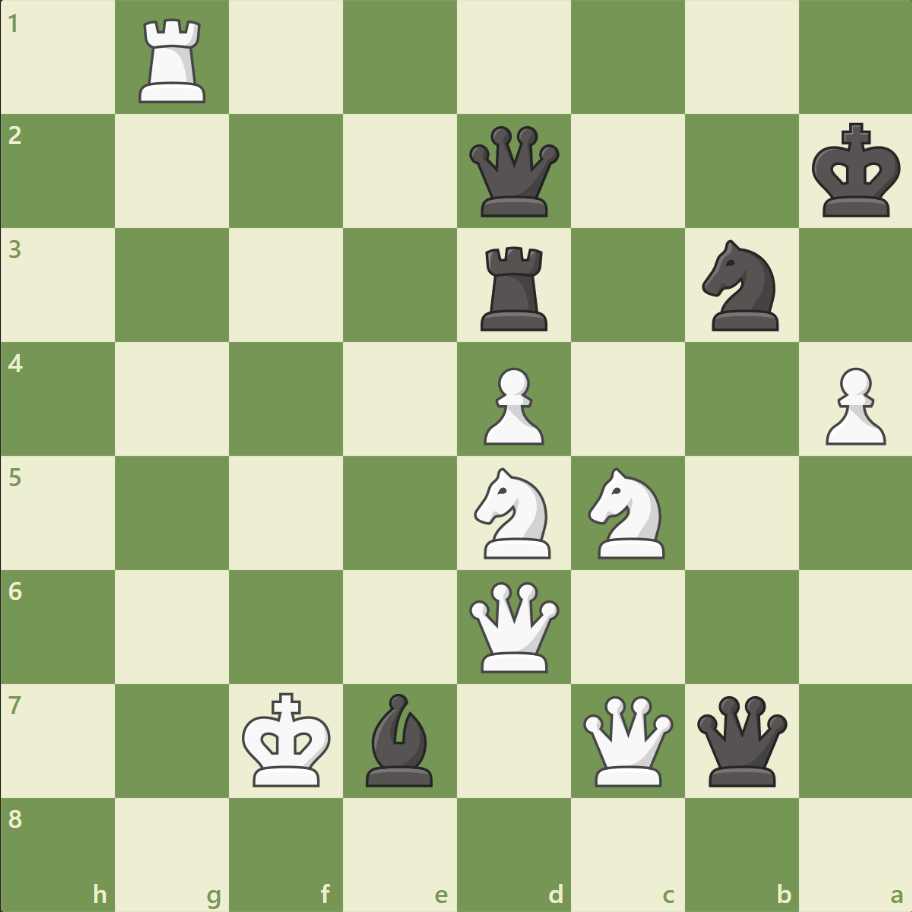K: (238, 685, 338, 793)
N: (579, 461, 676, 564), (465, 461, 562, 564)
P: (474, 359, 549, 450), (815, 359, 889, 450)
Q: (464, 576, 563, 676), (578, 690, 677, 789)
R: (133, 12, 215, 109)
b: (358, 687, 442, 790)
k: (806, 117, 906, 225)
n: (692, 234, 789, 337)
q: (464, 122, 563, 222), (691, 690, 790, 789)
r: (473, 239, 556, 336)
